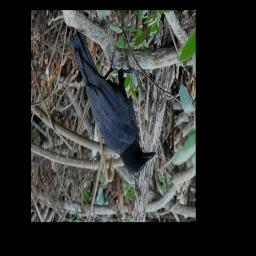Crow: (68, 27, 157, 175)
